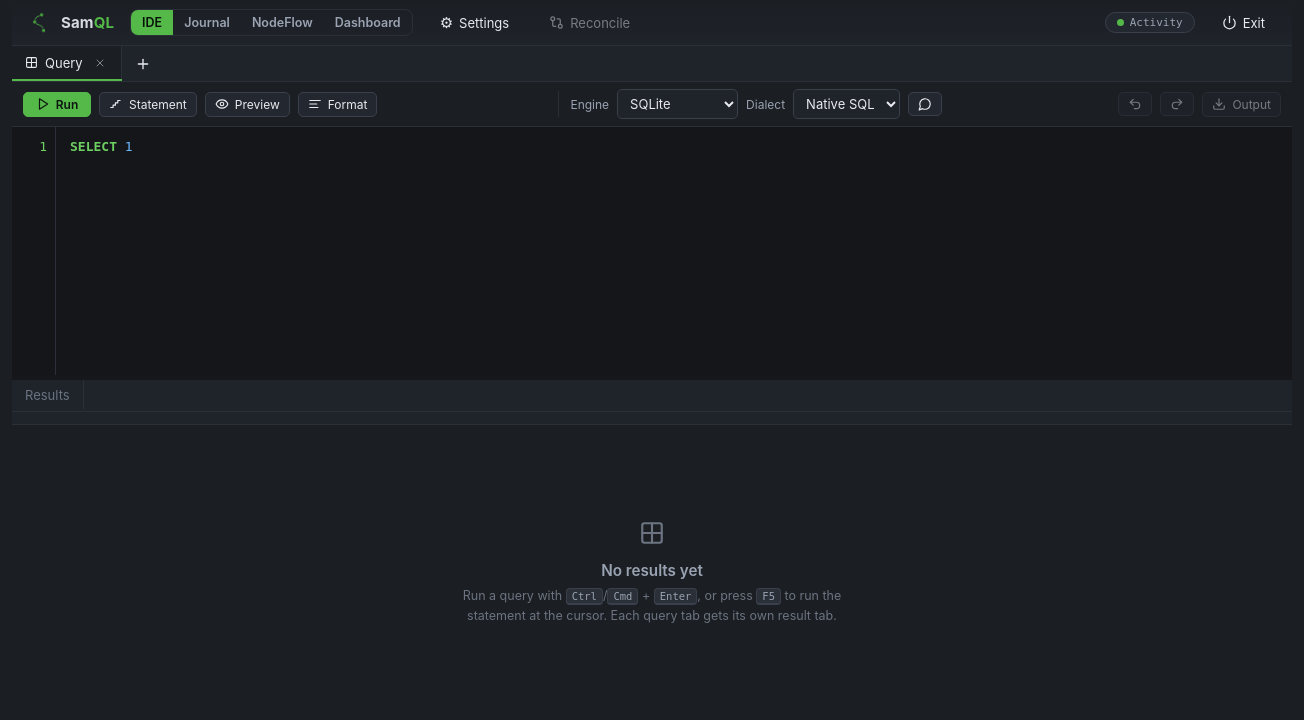
App runtime behavior › debounces editor persistence and stores the latest SQL
Replace the text in the text box with test id "ide-sql-editor" with "SELECT 2" at [674, 251], box [56,127,1292,375]
Wait 500 ms
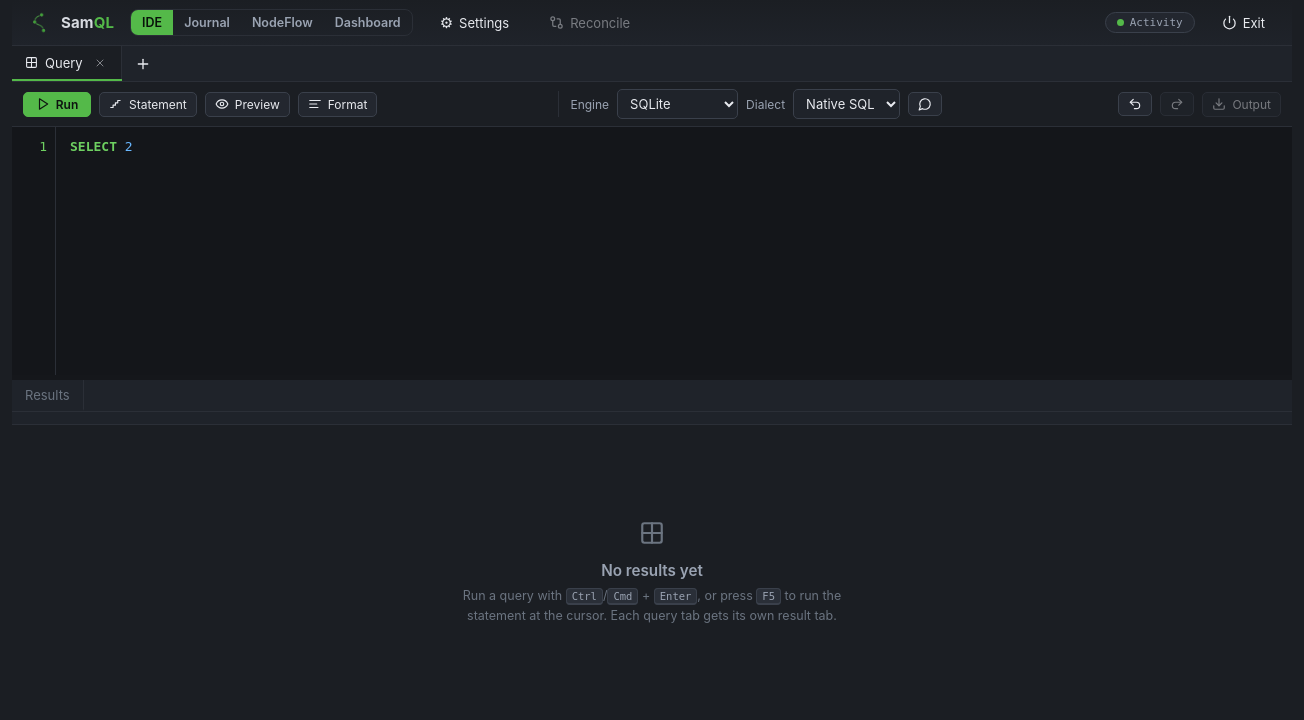
Expected: the element showing "SELECT 2" is shown, [70,139,133,154]
